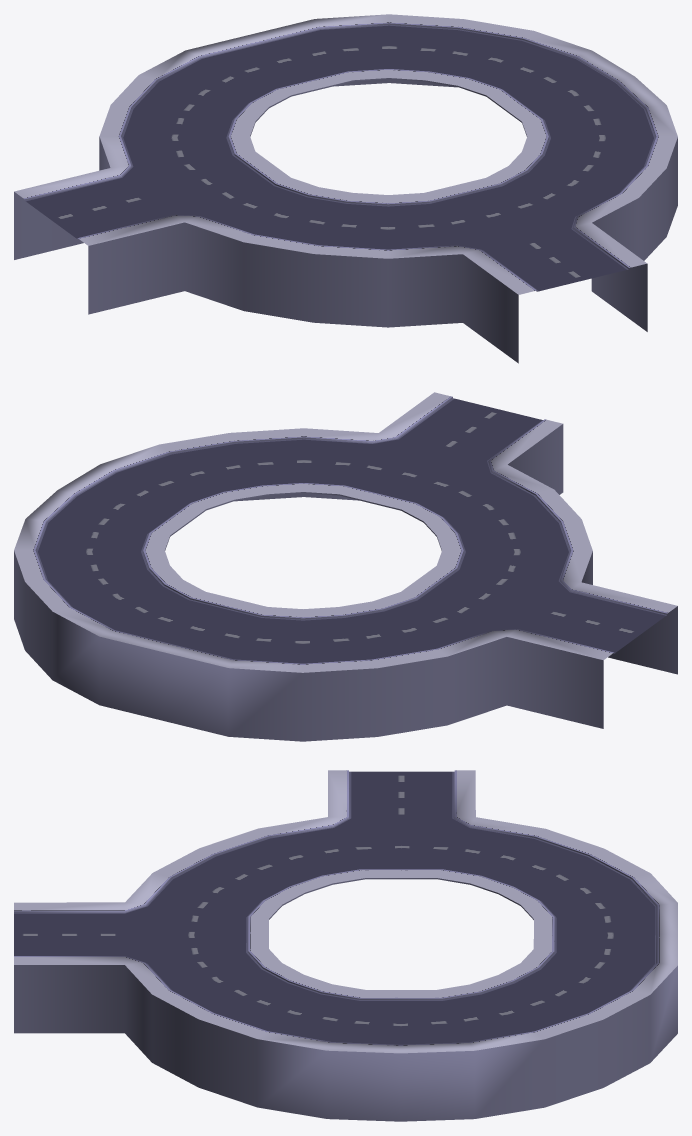
The picture shows the model from 3 angles, top to bottom: view 1: azimuth 30°, elevation 25°; view 2: azimuth 150°, elevation 25°; view 3: azimuth 270°, elevation 25°; orthographic projection.
Parts seen in each view (by area): view 1: Circle_2.001; view 2: Circle_2.001; view 3: Circle_2.001.
Boxes of the visible parts, x1,y1,x2,y2 form: Circle_2.001: (14, 14, 677, 363); Circle_2.001: (14, 392, 677, 741); Circle_2.001: (14, 770, 677, 1121).
Size of the model in its own units: 90.64 by 10.2 by 89.82.
1 material, 1 textured.
